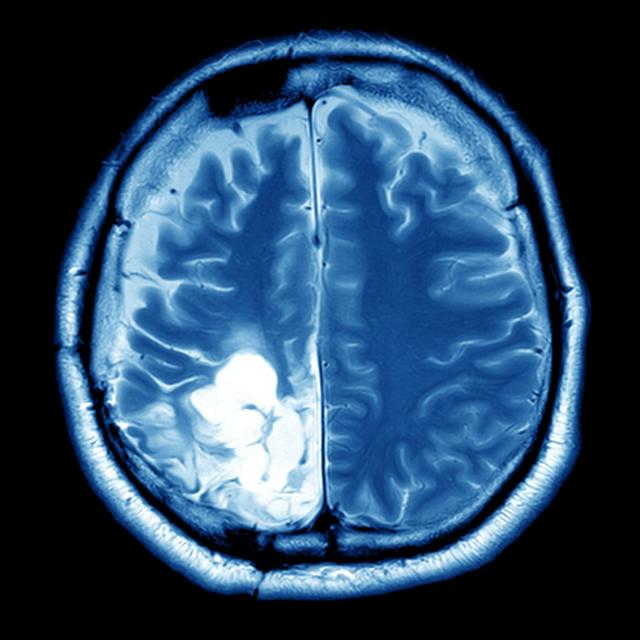Tumor: (198, 352, 304, 487)
